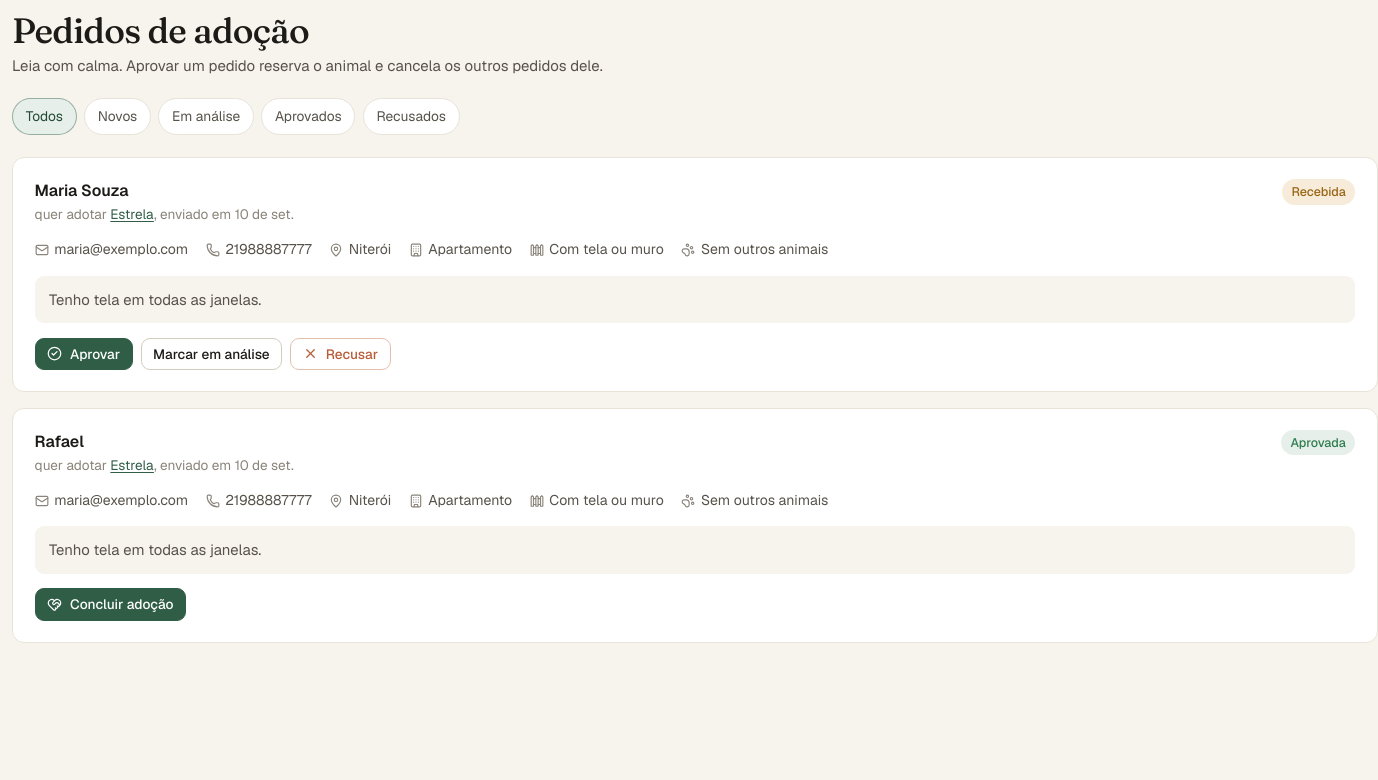
pedidos de adoção › aprova, coloca em análise e conclui a adoção
Click the button "Marcar em análise" at (211, 354), box [141,338,282,370]
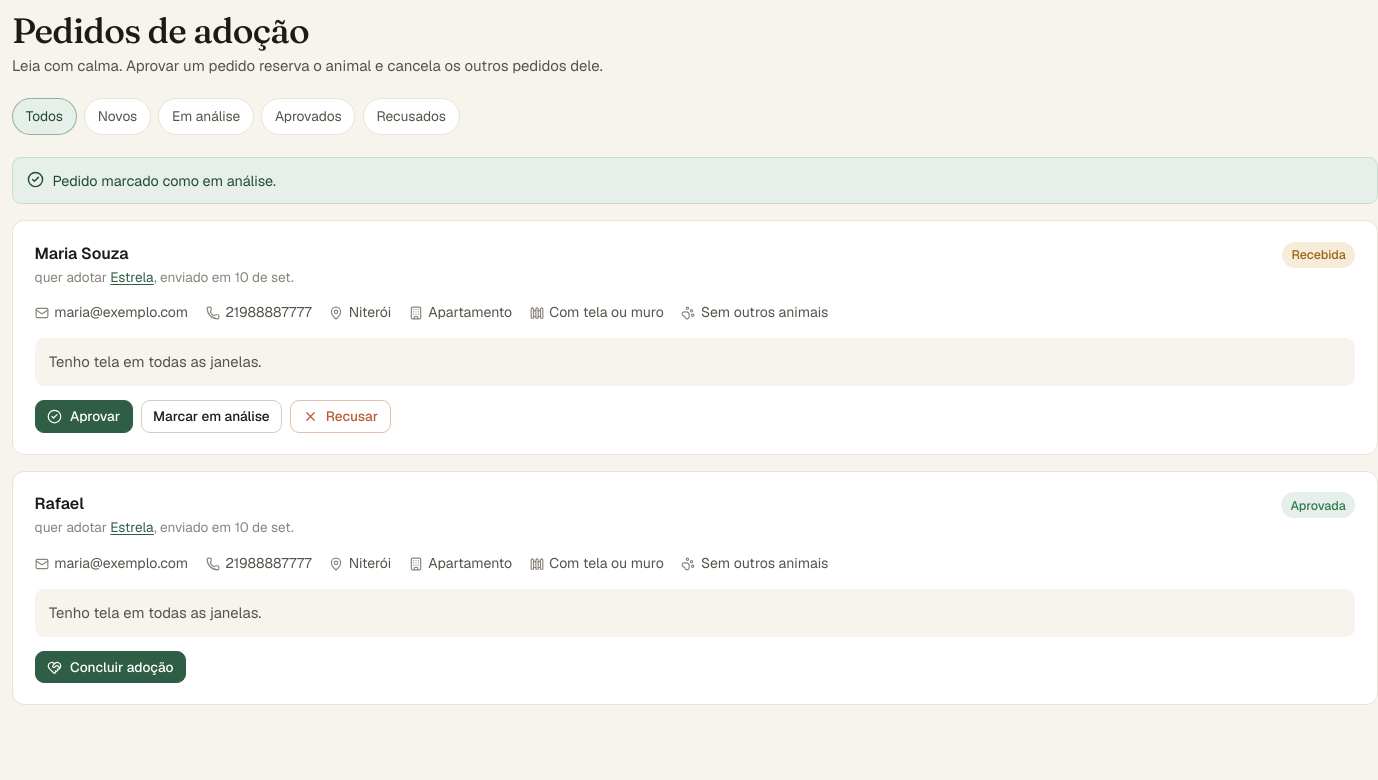
expect the text "Pedido marcado como em análise." is shown: met, box [52,170,276,192]
Click the button "Aprovar" at (84, 417), box [35,400,133,433]
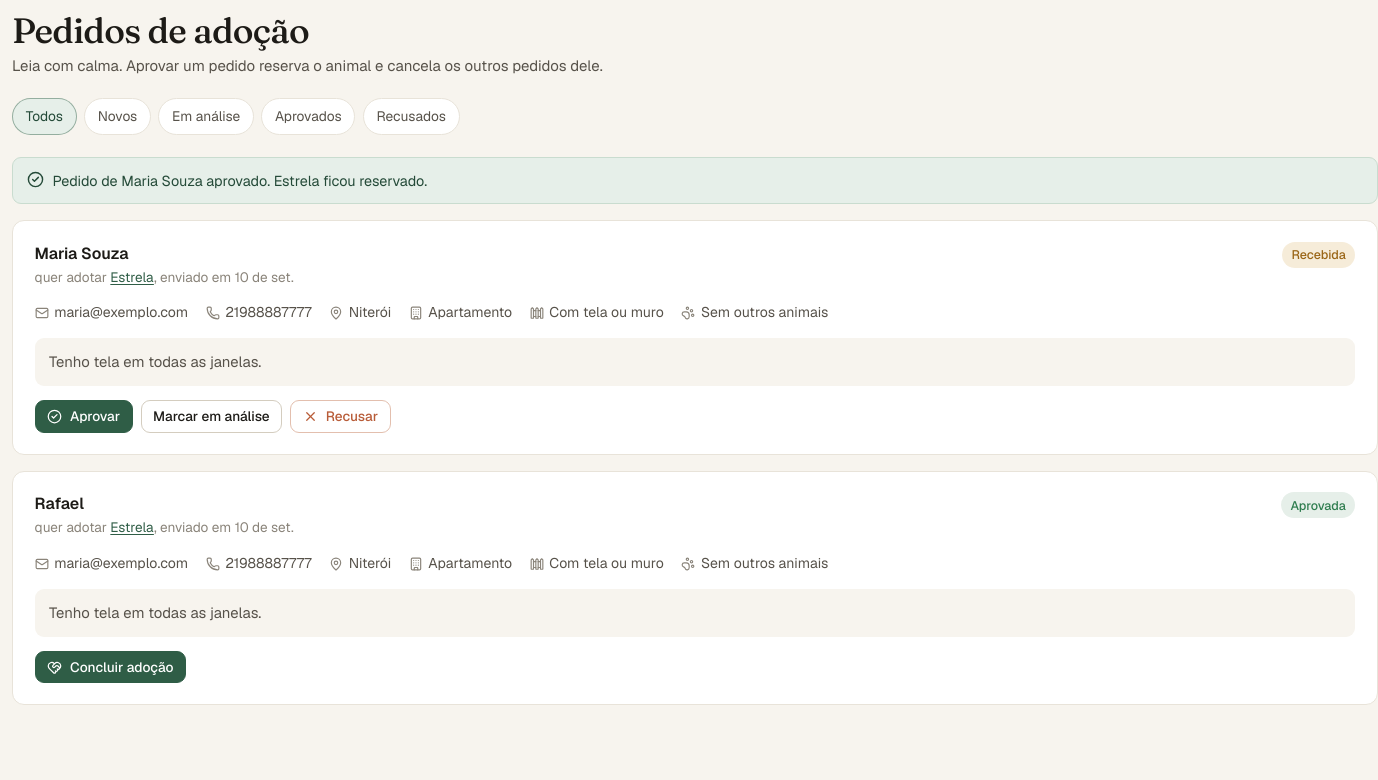
expect the text "Pedido de Maria Souza aprovado. Estrela ficou reservado." is shown: met, box [52,170,427,192]
Click the button "Concluir adoção" at (110, 667), box [35,651,186,684]
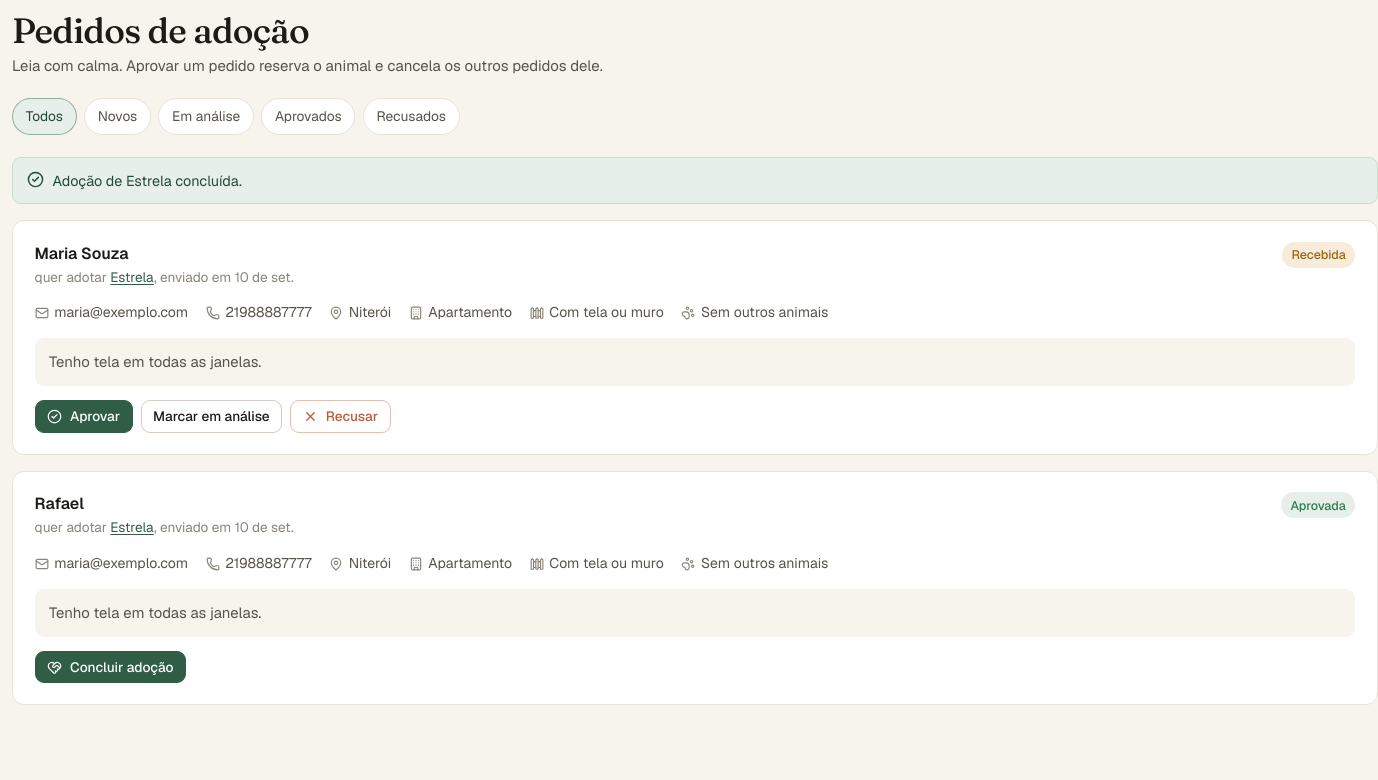
expect the text "Adoção de Estrela concluída." is shown: met, box [52,170,242,192]
